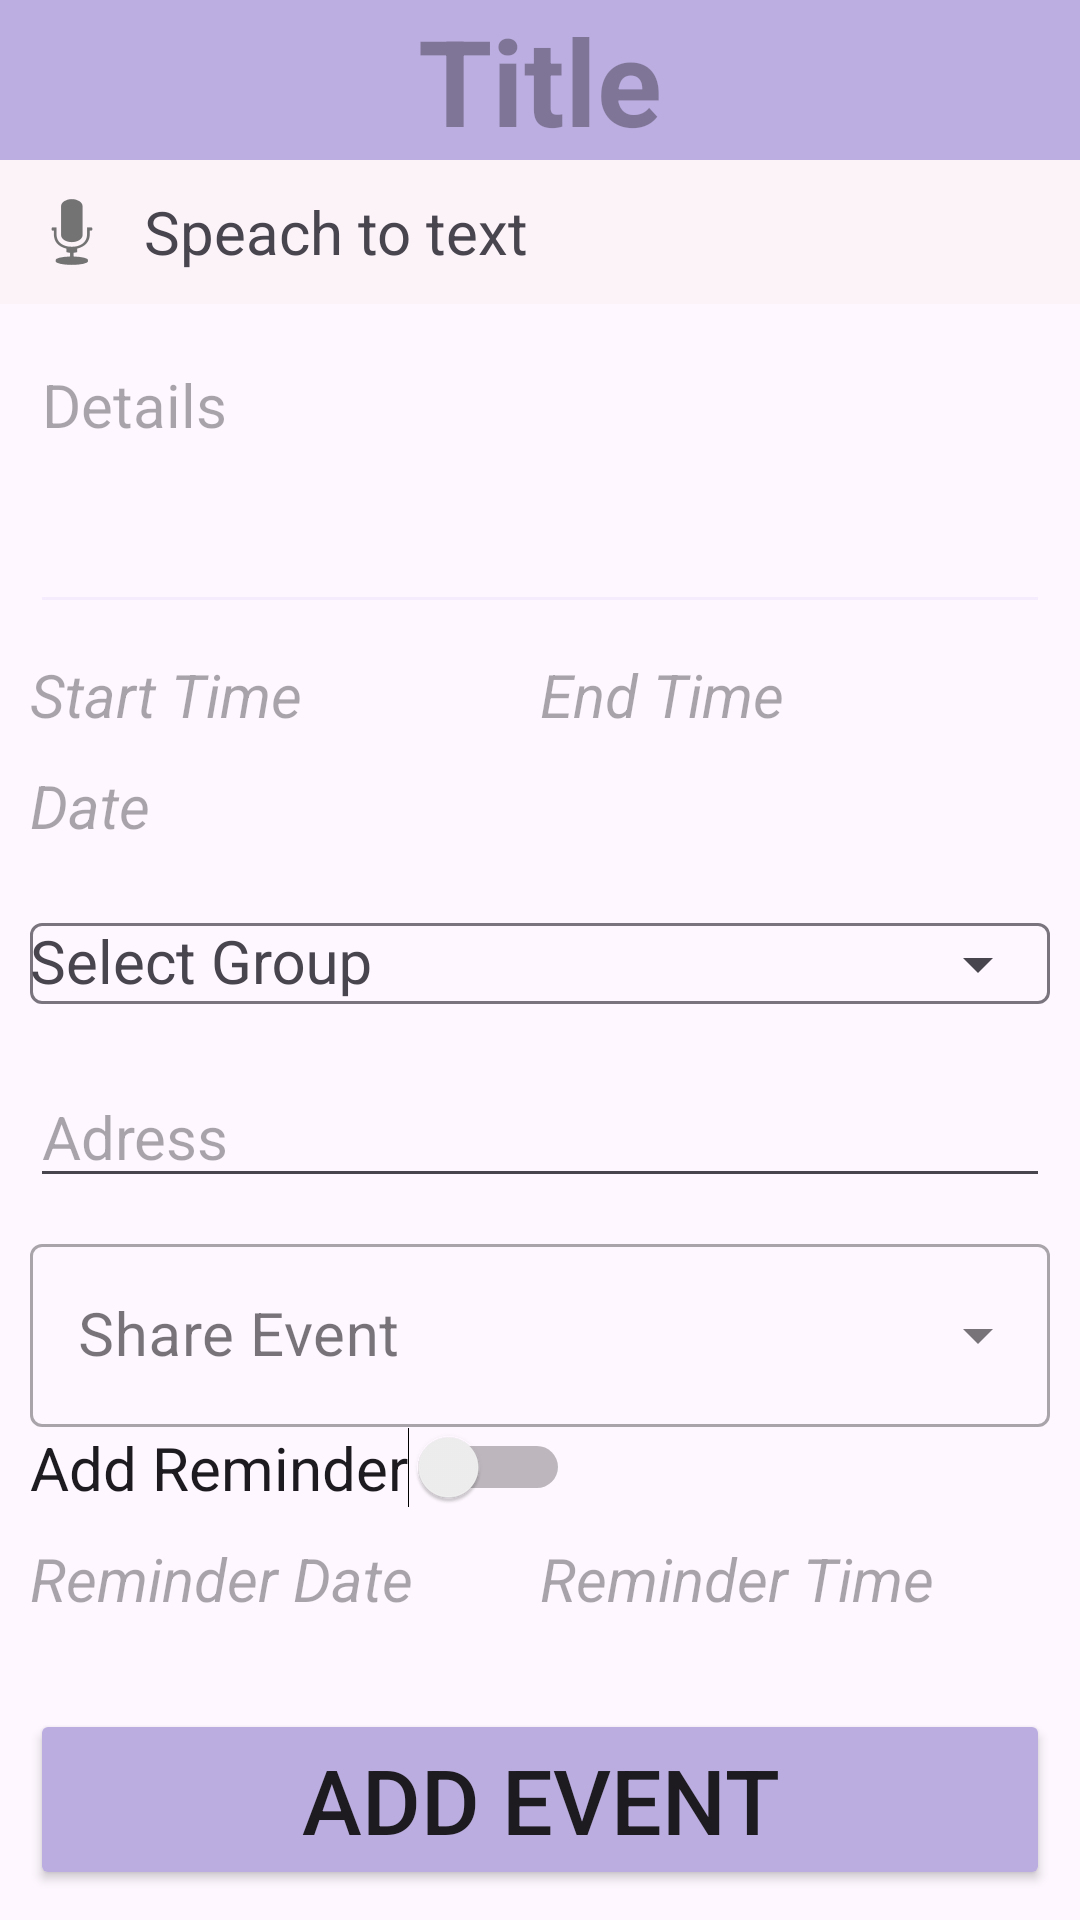

Icons on this 1080 × 1920 Android screen, each with its box as (x1, y1, x2, y2):
Speak: (51, 199, 93, 265)
